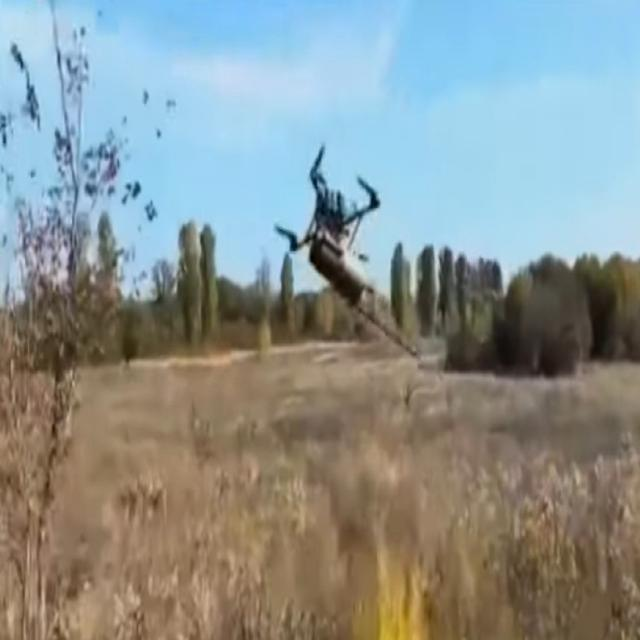drone: (274, 142, 386, 310)
